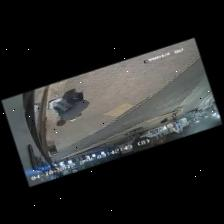person: (54, 90, 89, 125)
